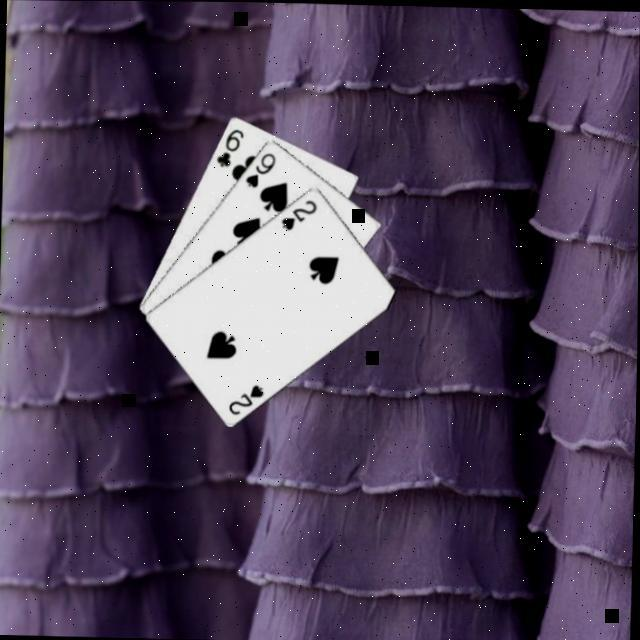2S: (223, 376, 265, 416), (276, 192, 318, 231)
6C: (211, 122, 244, 168)
9S: (240, 146, 276, 188)
